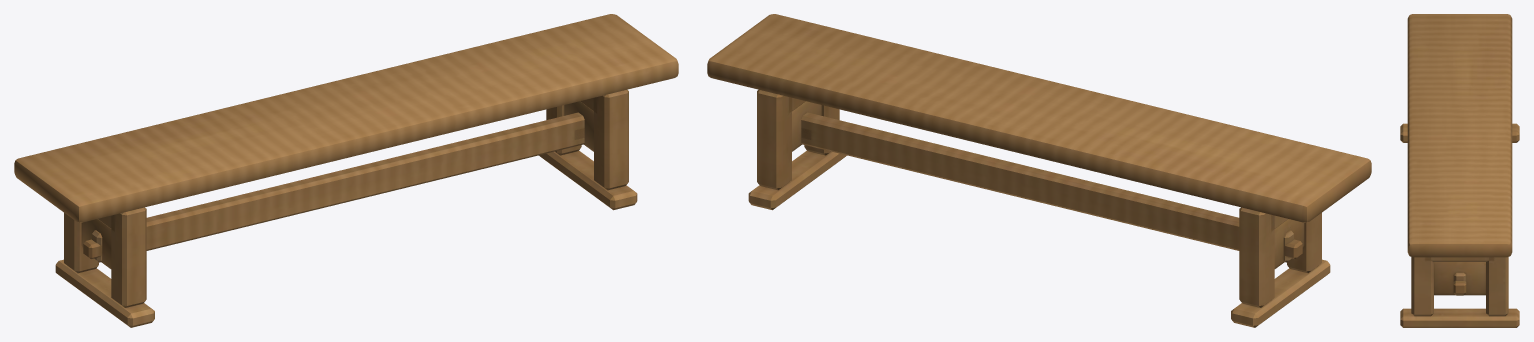
File: bench.glb
3 renders of one model, left to right at view 1: azimuth 30°, elevation 25°; view 2: azimuth 150°, elevation 25°; view 3: azimuth 270°, elevation 25°, orthographic. The views are drawn at different scales.
Visible parts, largest first — view 1: bench; view 2: bench; view 3: bench.
Boxes of the visible parts, x1,y1,x2,y2 form: bench: (14, 14, 678, 327); bench: (707, 14, 1371, 327); bench: (1400, 14, 1519, 327).
Size of the model in its own units: 2.2 by 0.46 by 0.48.
Materials: 1 (1 with a texture image).
